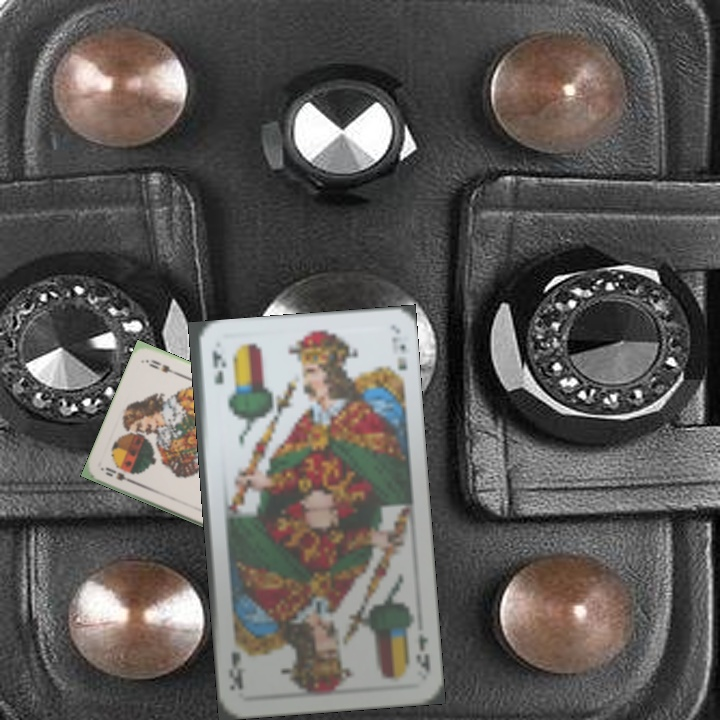EK: (412, 629, 432, 679), (209, 346, 225, 387)
SO: (99, 463, 138, 486)
